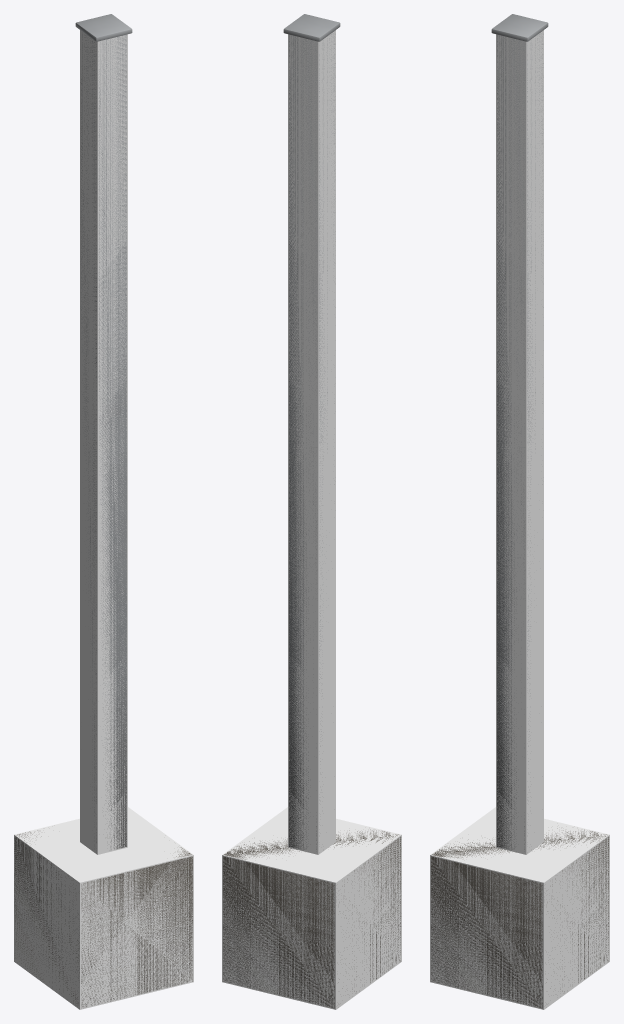
File: Fence_Post.glb
3 renders of one model, left to right at view 1: azimuth 30°, elevation 25°; view 2: azimuth 150°, elevation 25°; view 3: azimuth 330°, elevation 25°, orthographic.
Visible parts, largest first — view 1: Fence_Post; view 2: Fence_Post; view 3: Fence_Post.
Part boxes in pixels (x1=…): Fence_Post: x1=14, y1=14, x2=193, y2=1009; Fence_Post: x1=222, y1=14, x2=401, y2=1009; Fence_Post: x1=430, y1=14, x2=609, y2=1009.
Size of the model in its own units: 0.3 by 2.38 by 0.3.
2 materials, 1 textured.
